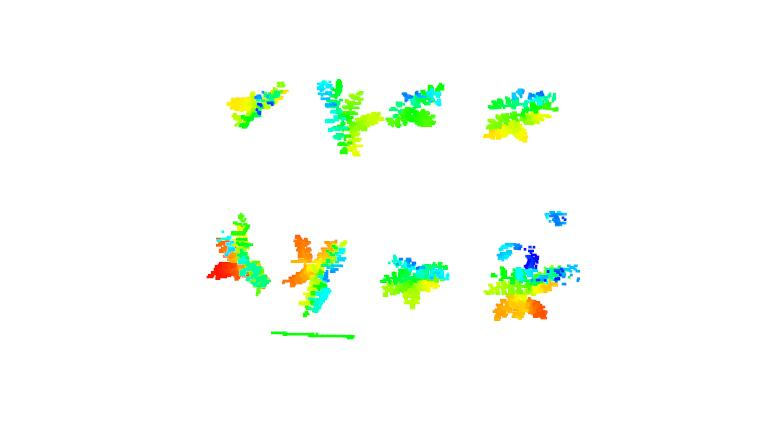chickpea: (484, 239, 573, 321), (203, 212, 276, 301), (280, 234, 349, 317), (313, 76, 384, 155), (482, 85, 560, 144), (377, 251, 453, 308), (384, 80, 453, 134), (227, 79, 289, 132)
